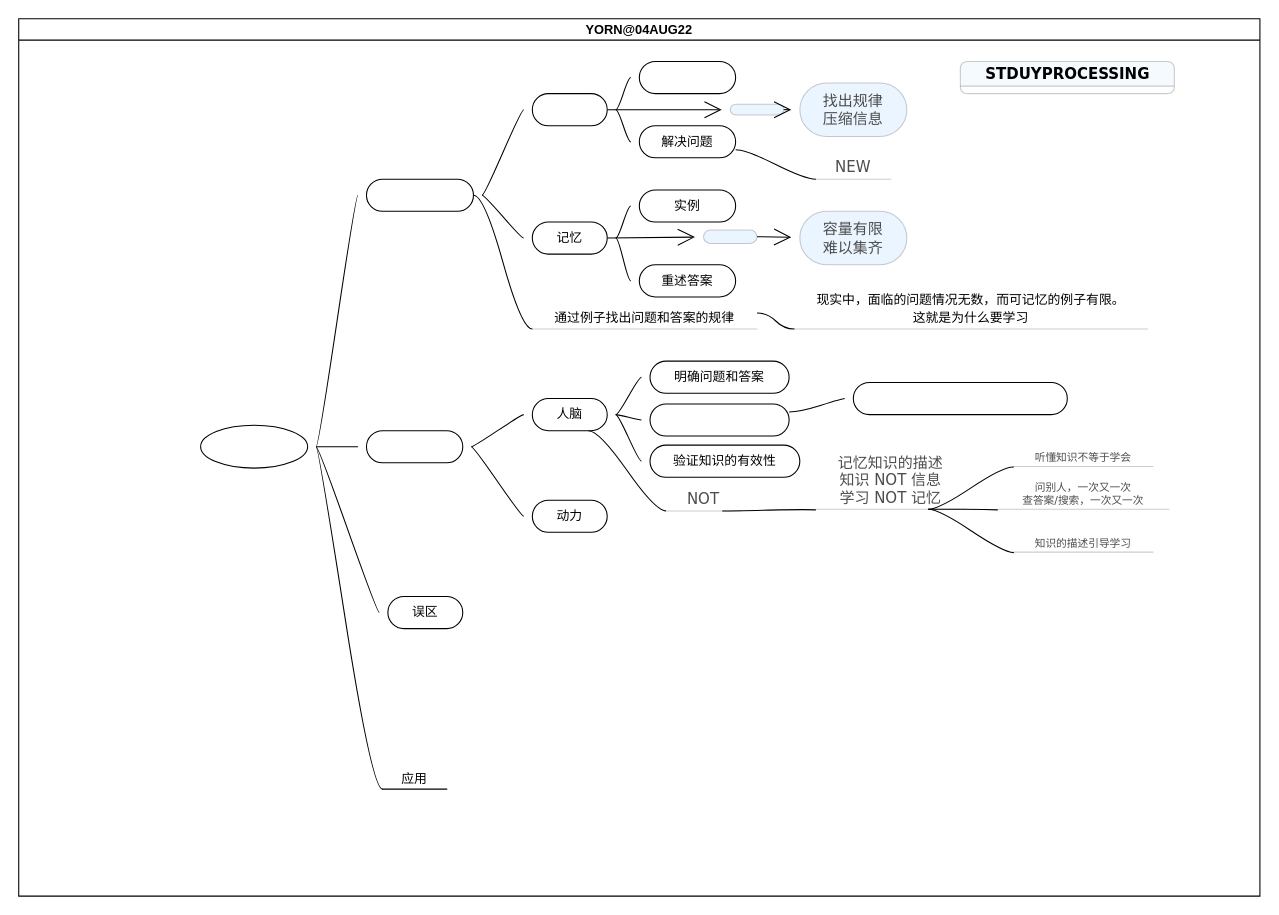
Image size: 1279x915. Some labels were removed from this diagram. Each missing label, with the centre of its shape:
『学习』: the point at 254,446
什么是学习: the point at 419,194
如何学习: the point at 414,446
学习: the point at 569,109
用例子构建知识: the point at 719,419
知识: the point at 687,77
通过输入输出让大脑建立连接: the point at 959,398
